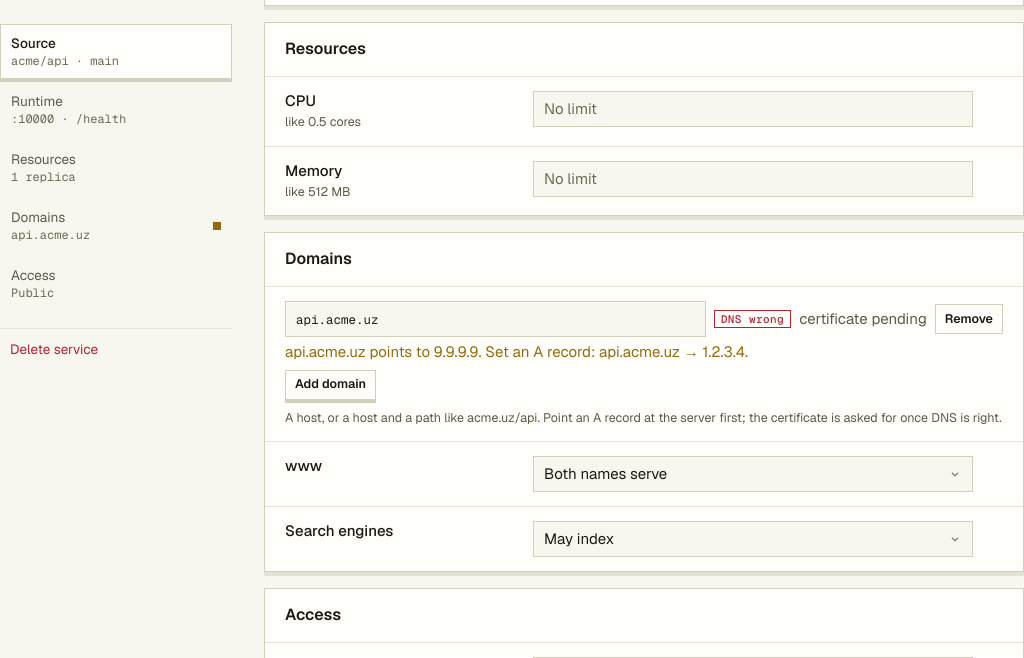
it: ServiceSettings › an added empty domain or volume row leaves nothing unsaved
The width and height of the screenshot is (1024, 658).
(page scrolled)
Click the button "Add domain".
click(331, 385)  # box 285,370 -> 376,400
(page scrolled)
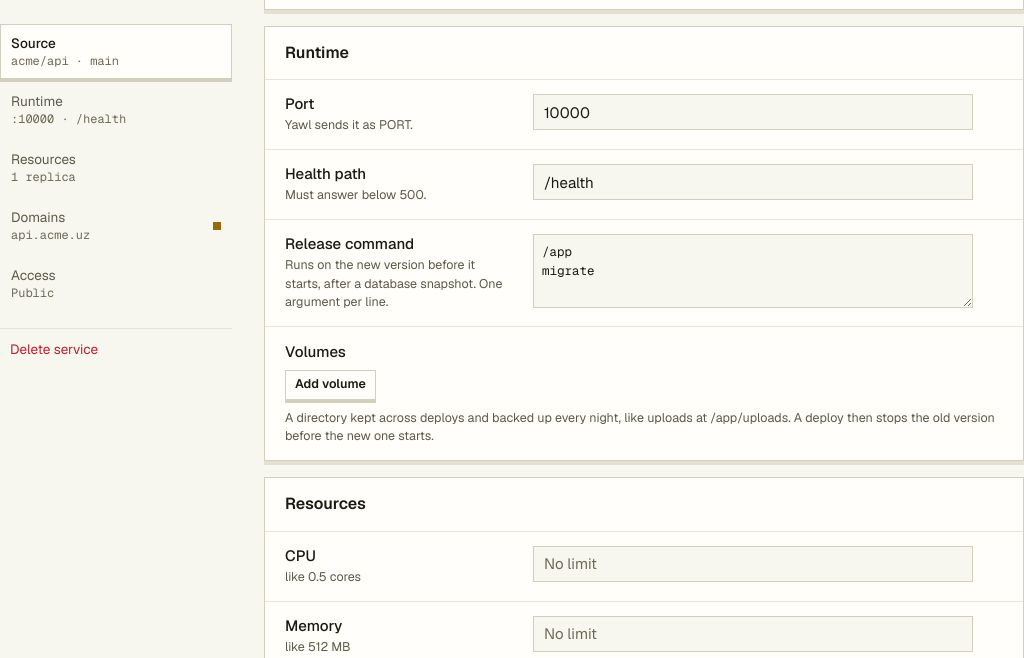
Click the button "Add volume".
click(330, 385)  # box 285,370 -> 376,400
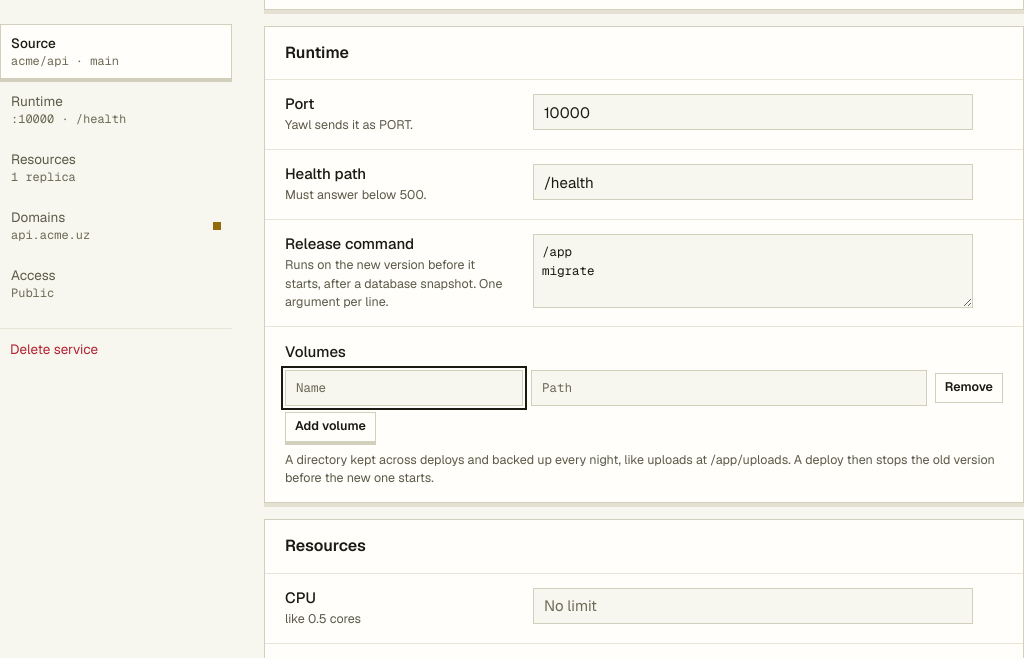
Expected: the button "Discard" is not shown
Expected: the field named "Name, volume 1" is shown
Type "uploads" into the field named "Name, volume 1".
click(404, 388); type("uploads")  # box 285,370 -> 523,406
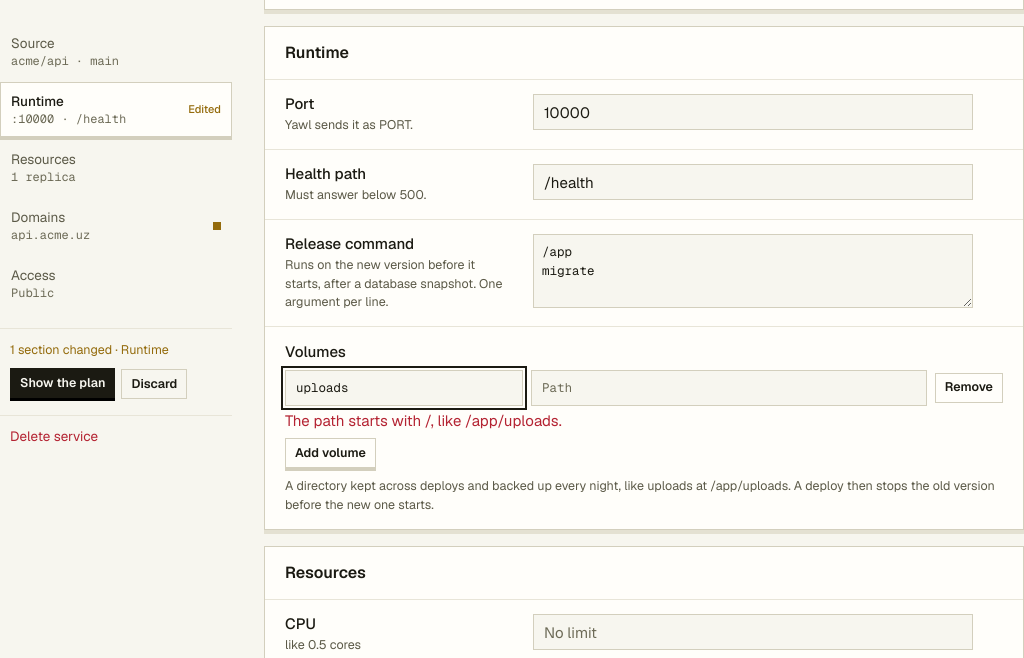
Expected: the text "1 section changed · Runtime" is shown, 10,341 -> 169,358
